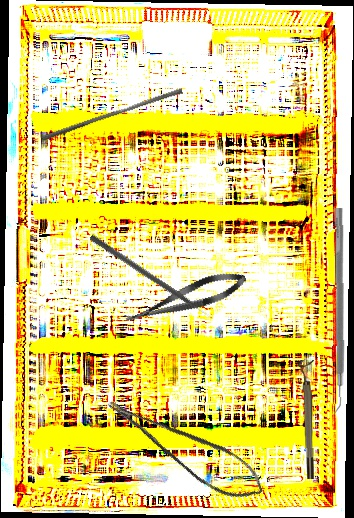Fixation Ring: (297, 359, 317, 480)
Micro Scissor: (103, 373, 273, 517), (121, 265, 250, 332)
Pusher: (88, 233, 214, 323), (41, 83, 184, 146)
Spatula Surgical: (326, 207, 347, 416)
